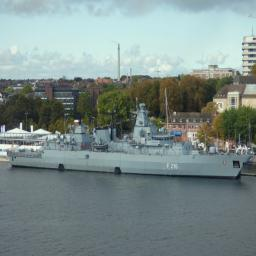Fragata: (5, 102, 254, 182)
